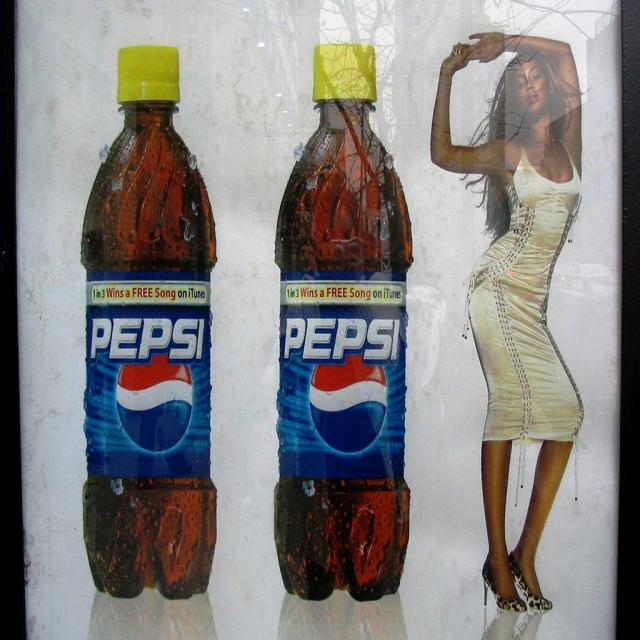pepsi: (112, 356, 198, 454), (309, 354, 390, 456)
